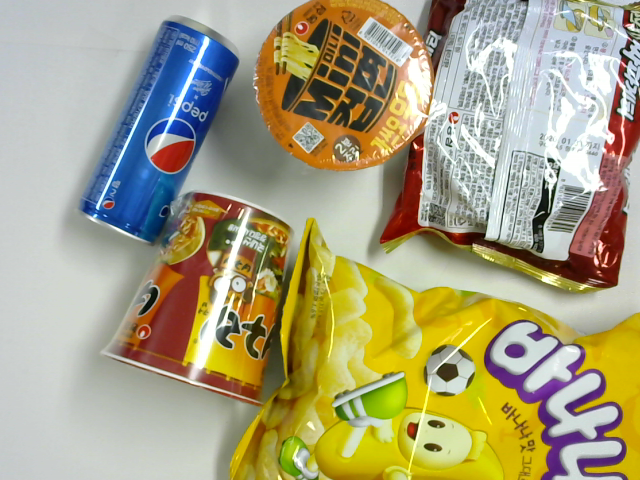Banana_Kick: (227, 217, 639, 480)
Pepsi_Cola_Can_250ml: (77, 14, 241, 244)
Raccoon: (100, 190, 295, 407)
Sichuan_Chapaghetti: (379, 1, 638, 295)
Udongmini: (252, 1, 434, 170)
